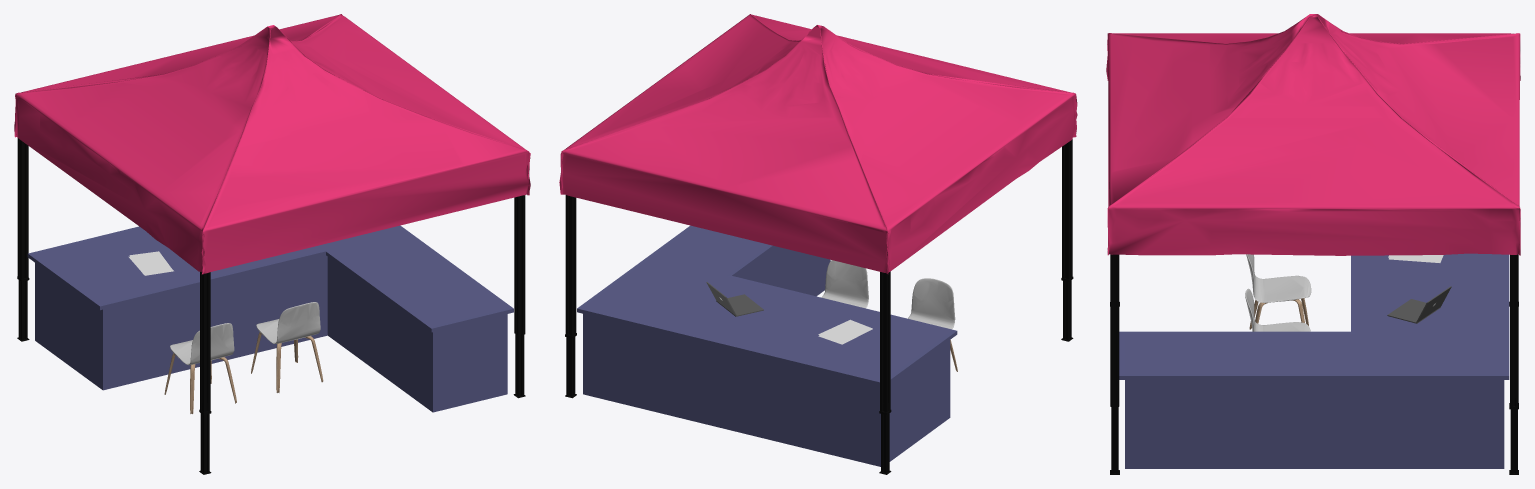
Rendered from Stall.glb.
The picture shows the model from 3 angles, left to right: view 1: azimuth 30°, elevation 25°; view 2: azimuth 150°, elevation 25°; view 3: azimuth 270°, elevation 25°; orthographic projection. The views are drawn at different scales.
Visible parts, largest first — view 1: Tent, table, Decor; view 2: Tent, table, Decor; view 3: Tent, table, Decor.
Boxes of the visible parts, x1,y1,x2,y2 form: Tent: (14,14,530,474); table: (27,225,513,412); Decor: (128,251,323,413); Tent: (559,14,1077,474); table: (577,225,957,466); Decor: (706,260,957,371); Tent: (1106,14,1520,474); table: (1119,253,1509,468); Decor: (1245,254,1451,331).
Size of the model in its own units: 0.5682 by 0.5586 by 0.5619.
8 materials, 1 textured.
